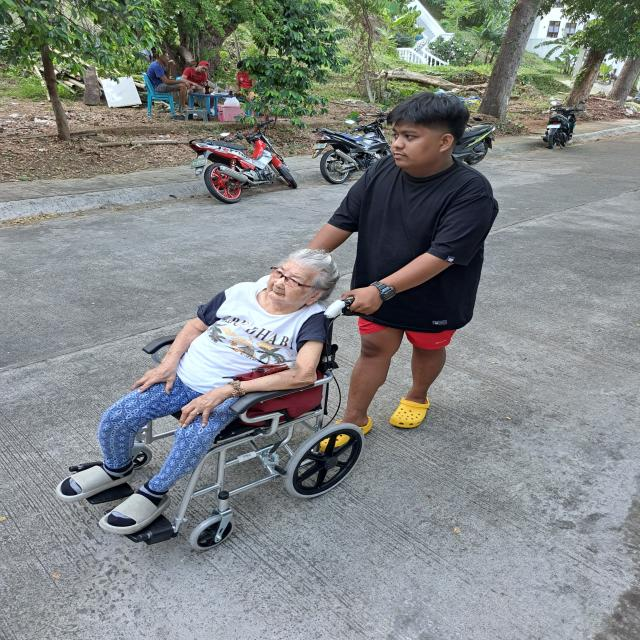wheelchairs: (59, 289, 372, 562)
